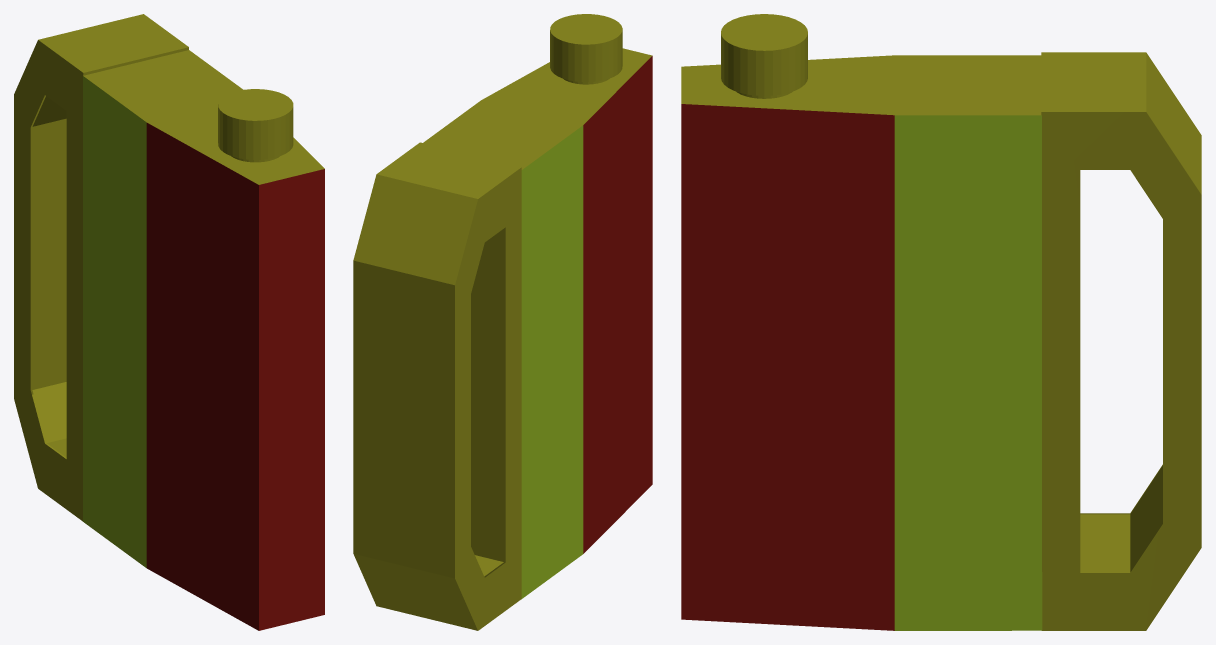
The model's file is botolOlidanTutup.fbx.
The picture shows the model from 3 angles, left to right: view 1: azimuth 30°, elevation 25°; view 2: azimuth 150°, elevation 25°; view 3: azimuth 270°, elevation 25°; orthographic projection. The views are drawn at different scales.
Parts seen in each view (by area): view 1: botolOli, tutupBotol; view 2: botolOli, tutupBotol; view 3: botolOli, tutupBotol.
Boxes of the visible parts, bbox=[...] form: botolOli: bbox=[14, 14, 324, 630]; tutupBotol: bbox=[218, 89, 293, 159]; botolOli: bbox=[353, 48, 652, 630]; tutupBotol: bbox=[550, 14, 622, 82]; botolOli: bbox=[681, 52, 1201, 630]; tutupBotol: bbox=[721, 14, 807, 95].
Size of the model in its own units: 7.55 by 33.37 by 27.69.
